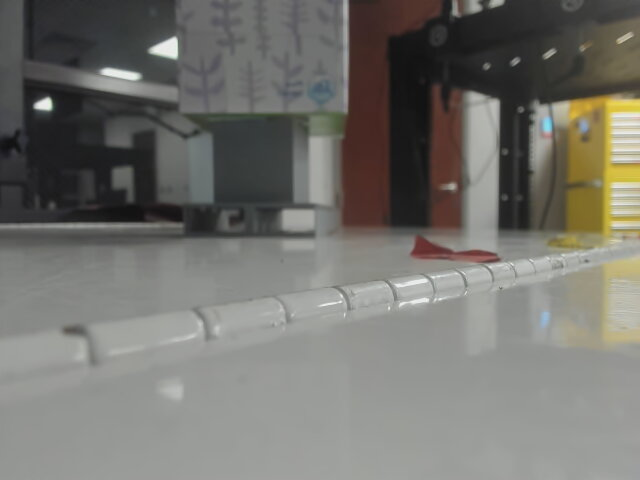white pallet: (180, 114, 353, 242)
